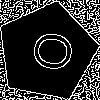O: (21, 27, 75, 75)
